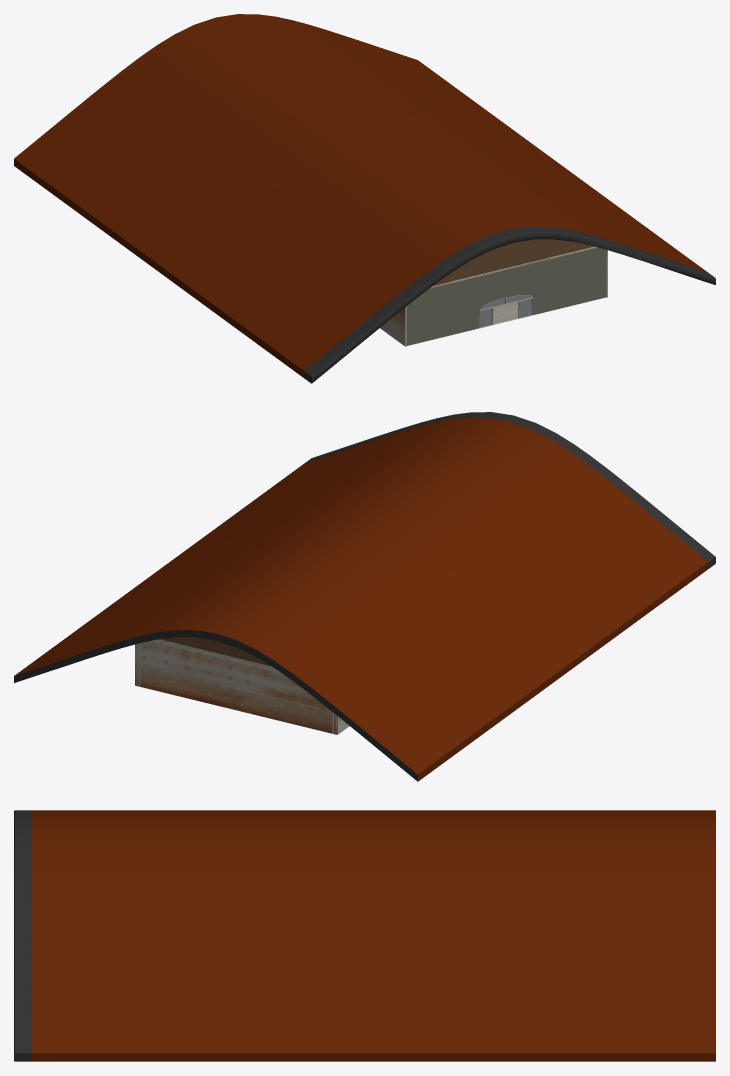
The model's file is skatepark.glb.
3 renders of one model, top to bottom at view 1: azimuth 30°, elevation 25°; view 2: azimuth 150°, elevation 25°; view 3: azimuth 270°, elevation 25°, orthographic. The views are drawn at different scales.
Visible parts, largest first — view 1: ROOF, WALL_FRONT, WALL_FRONT_001_WOOD_0, GROUND, DOOR_GLASS, WALL_INSIDE; view 2: ROOF, WALL_INSIDE, WALL_INSIDE_WOOD; view 3: ROOF.
Boxes of the visible parts, x1,y1,x2,y2 form: ROOF: [14, 14, 715, 383]; WALL_FRONT: [406, 247, 606, 345]; WALL_FRONT_001_WOOD_0: [433, 239, 593, 285]; GROUND: [480, 295, 531, 326]; DOOR_GLASS: [480, 295, 532, 327]; WALL_INSIDE: [380, 250, 607, 346]; ROOF: [14, 412, 715, 781]; WALL_INSIDE: [135, 640, 349, 734]; WALL_INSIDE_WOOD: [160, 637, 271, 666]; ROOF: [14, 810, 715, 1061].
Size of the model in its own units: 594 by 150 by 759.
Materials: 14 (10 with a texture image).
